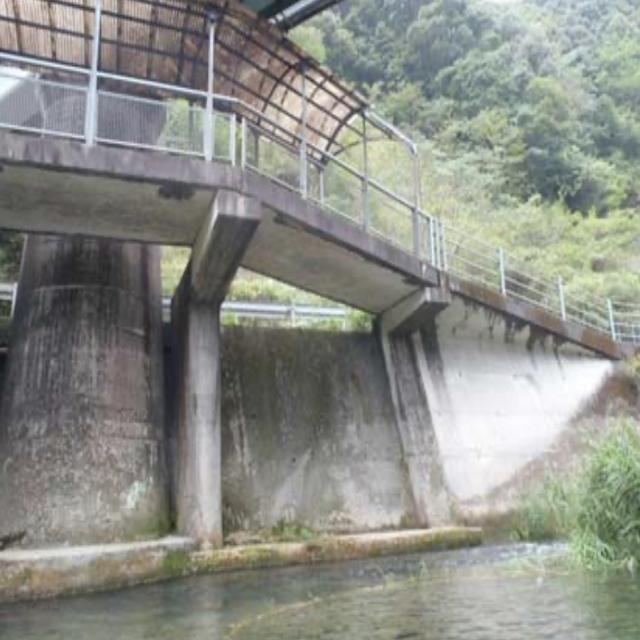leakage: (31, 228, 143, 532)
